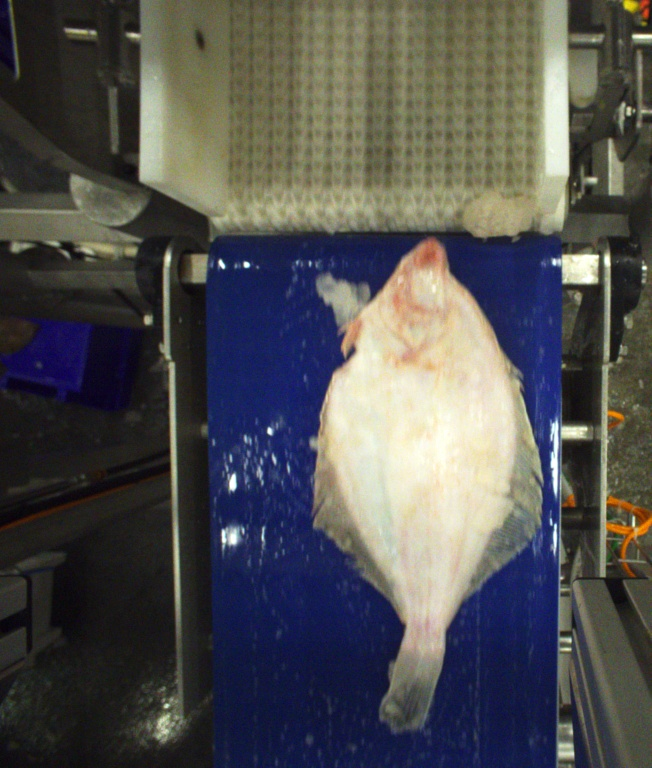PLE: (310, 237, 547, 735)
